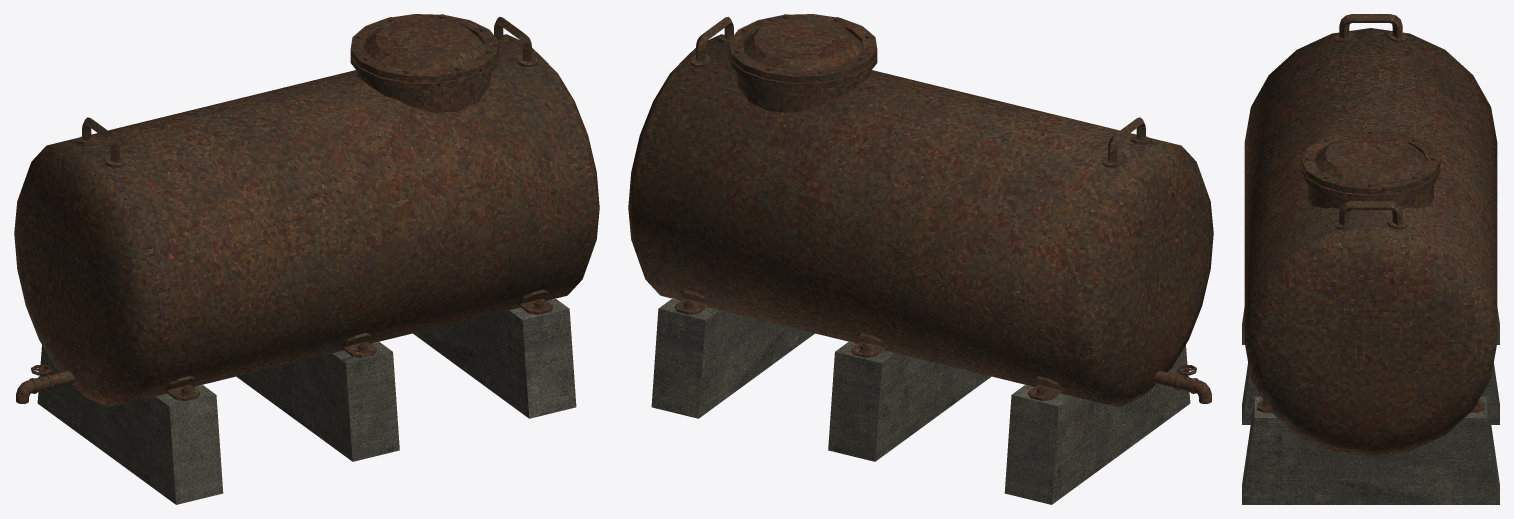
Rendered from storage_tank_mx_1.glb.
3 views of the same model, side by side, from view 1: azimuth 30°, elevation 25°; view 2: azimuth 150°, elevation 25°; view 3: azimuth 270°, elevation 25° (orthographic). The views are drawn at different scales.
Visible parts, largest first — view 1: storage_tank_mx_1; view 2: storage_tank_mx_1; view 3: storage_tank_mx_1.
Boxes of the visible parts, box(x1,y1,x2,y2) form: storage_tank_mx_1: box(14, 14, 599, 504); storage_tank_mx_1: box(628, 14, 1213, 504); storage_tank_mx_1: box(1242, 14, 1499, 504).
Bounding box in the file's own units: 4.53 × 2.74 × 2.04.
Materials: 2 (2 with a texture image).
